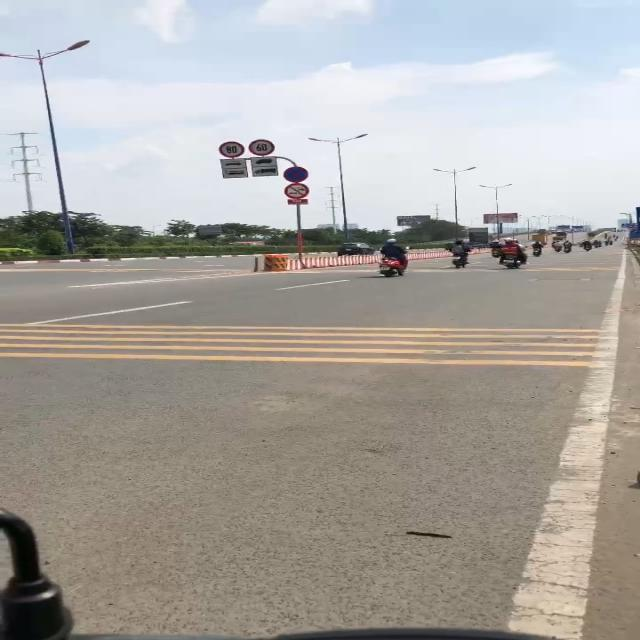Bien bao toc do toi da cho phep: (218, 140, 246, 157), (247, 139, 274, 156)
